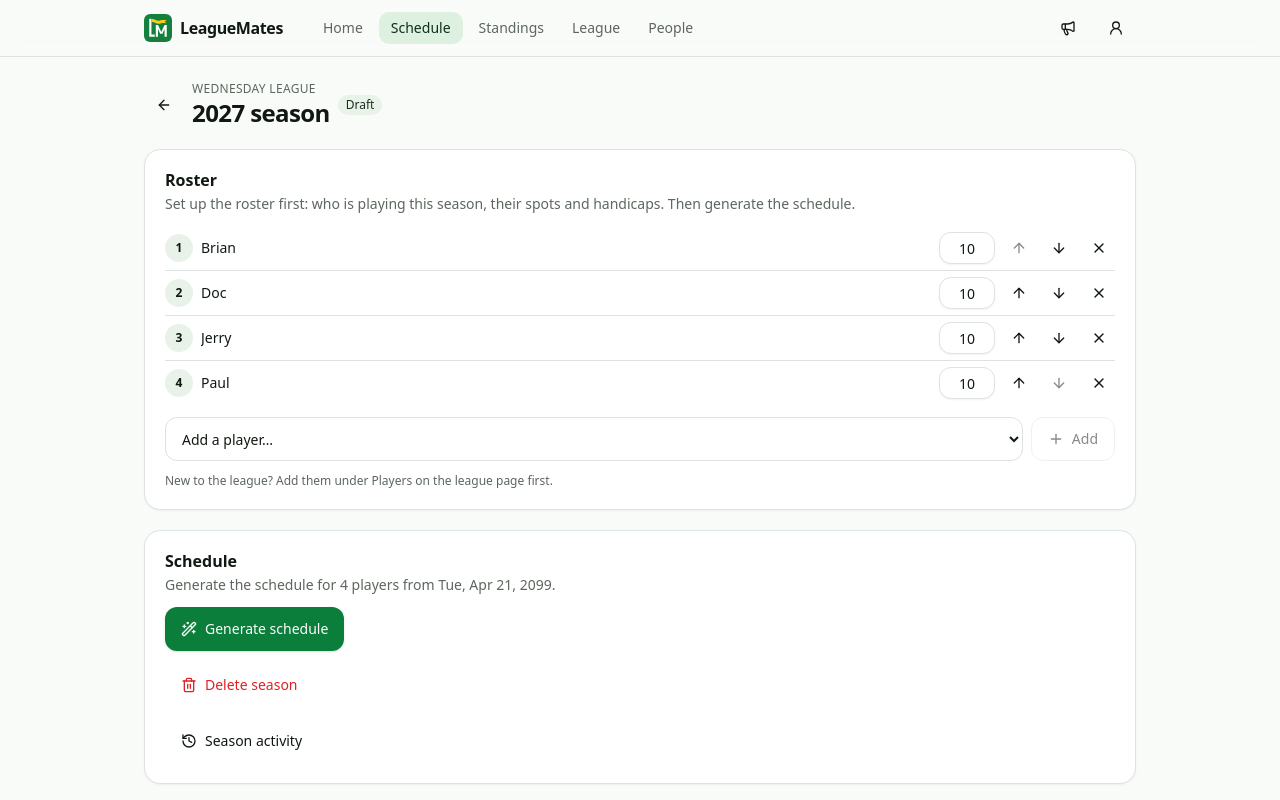
Test: season page › admins generate the schedule, review the report, and lock it
What coordinates should you click on to do the following:
click the button "Generate schedule"
I would click on:
 (255, 629)
Its box is [165,607,344,651].
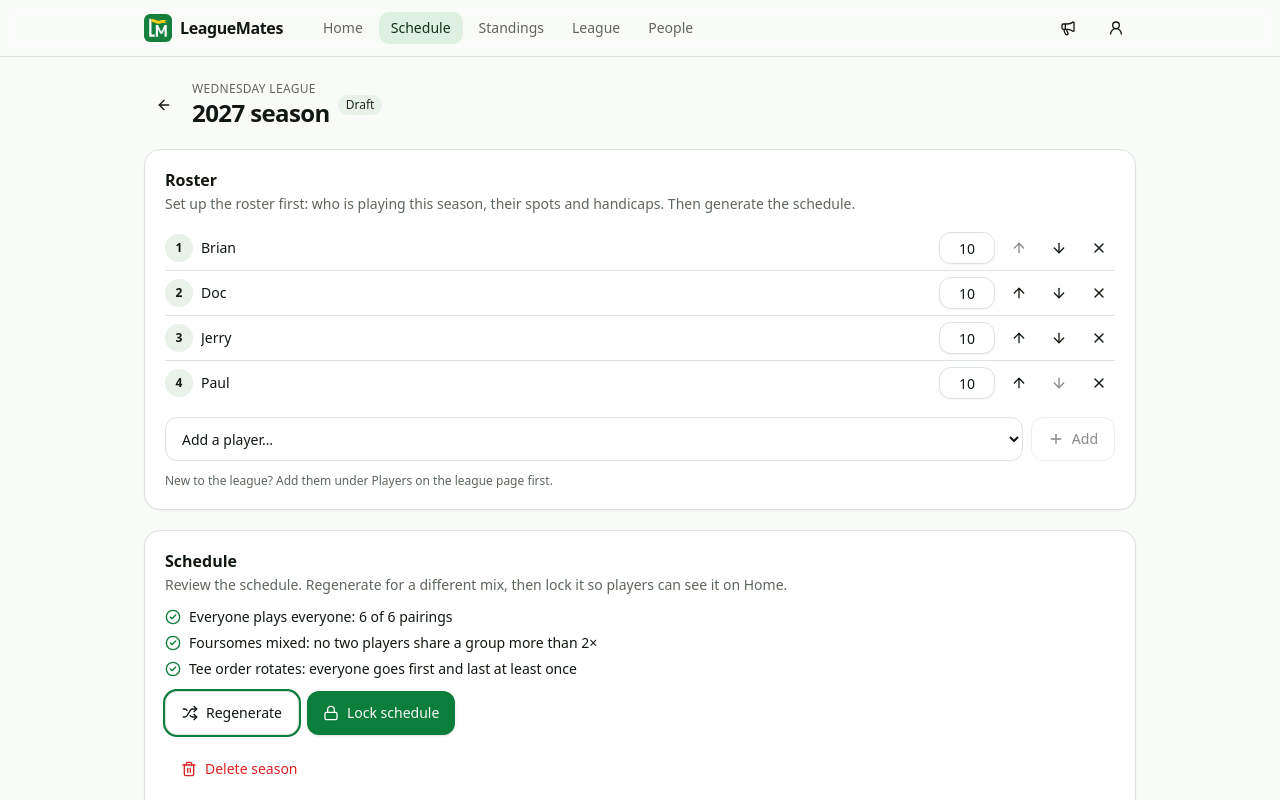
Now the list item "Everyone plays everyone: 6 of 6 pairings" is shown, box [165,607,453,626]
What coordinates should you click on to do the following:
click the button "Lock schedule"
I would click on:
 (381, 713)
Its box is [307,691,455,735].
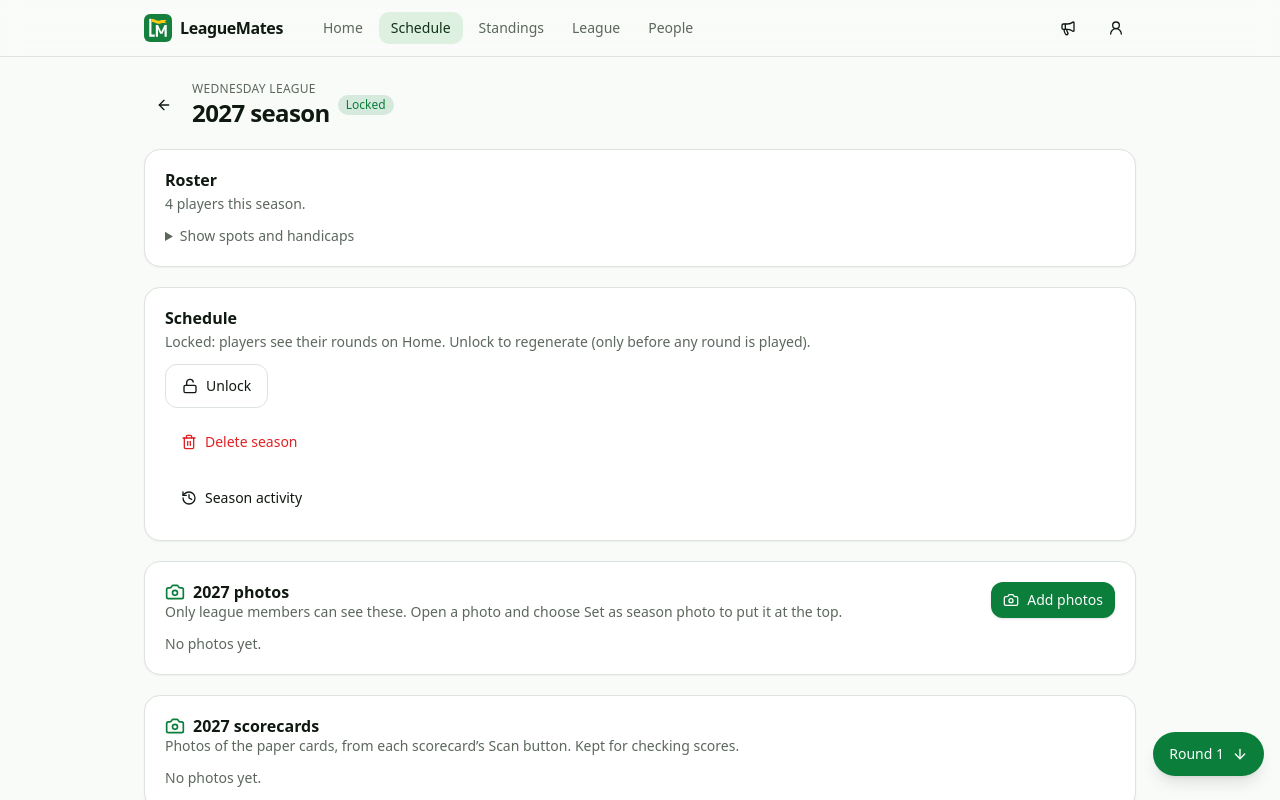
Now the button "Unlock" is shown, box [165,364,268,408]
